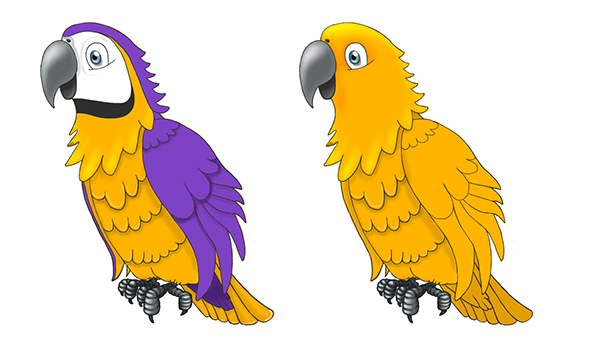bird: (291, 12, 543, 344), (36, 11, 278, 330)
